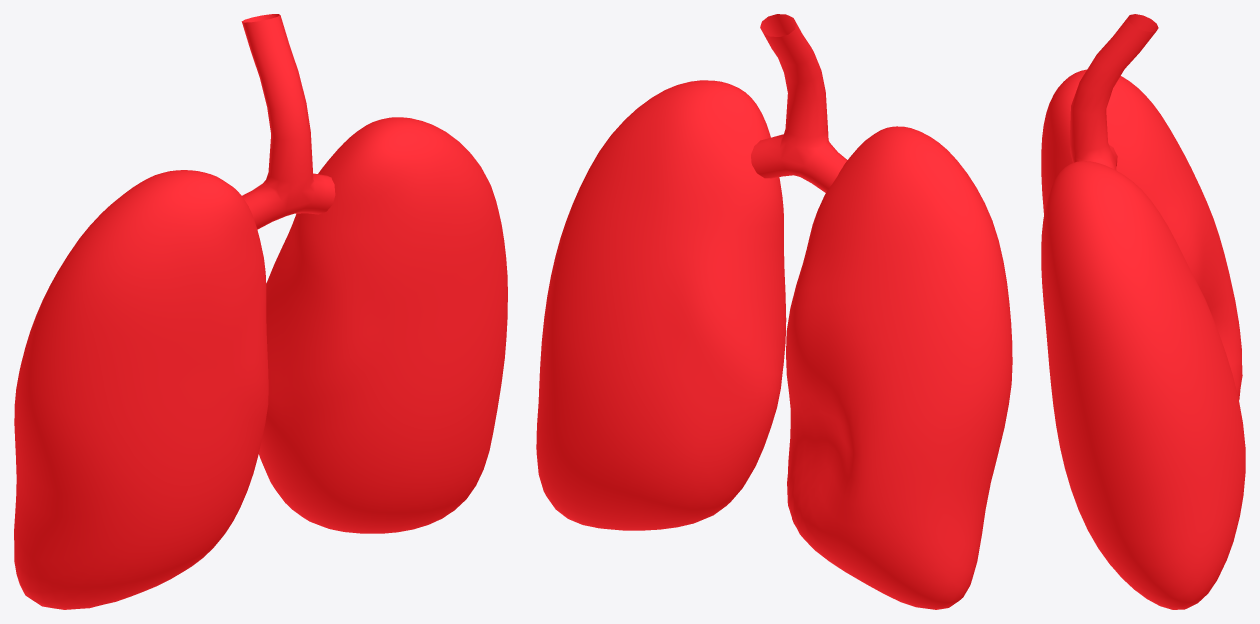
Rendered from new_lungs_Blender.fbx.
3 renders of one model, left to right at view 1: azimuth 30°, elevation 25°; view 2: azimuth 150°, elevation 25°; view 3: azimuth 270°, elevation 25°, orthographic. The views are drawn at different scales.
Parts seen in each view (by area): view 1: male_lungs; view 2: male_lungs; view 3: male_lungs.
Part boxes in pixels (left/top/right/bottom): male_lungs: left=14, top=14, right=507, bottom=609; male_lungs: left=536, top=14, right=1012, bottom=609; male_lungs: left=1041, top=14, right=1245, bottom=609.
Size of the model in its own units: 24.93 by 28.29 by 10.3.
